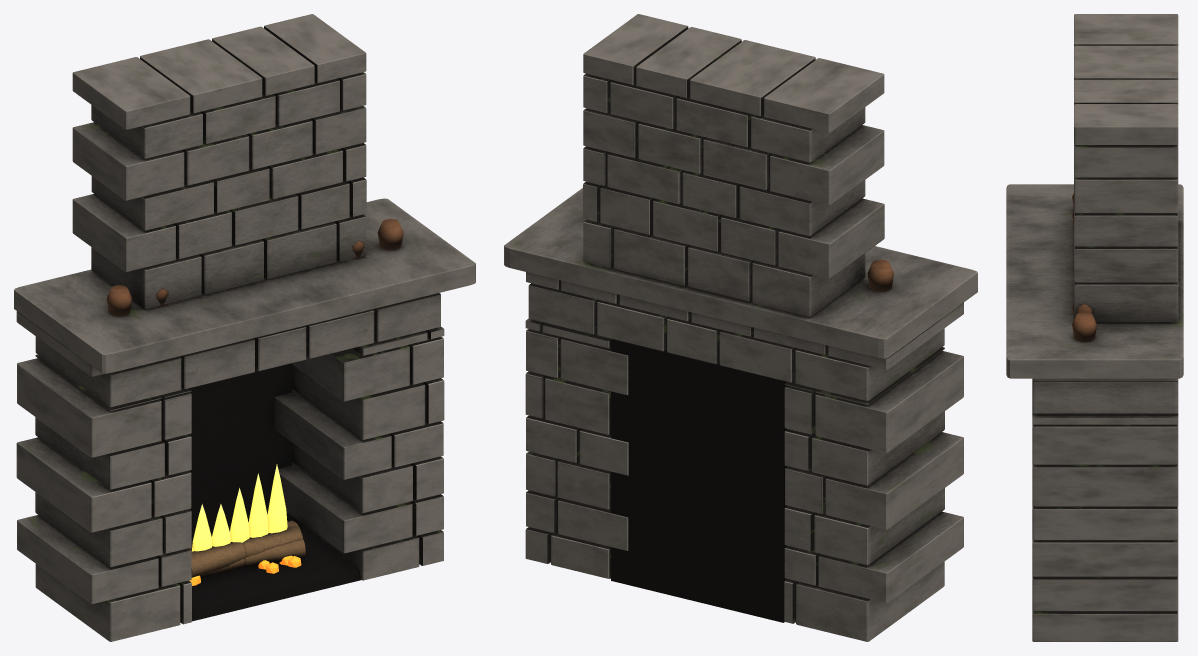
Rendered from movel_lareira.glb.
3 renders of one model, left to right at view 1: azimuth 30°, elevation 25°; view 2: azimuth 150°, elevation 25°; view 3: azimuth 270°, elevation 25°, orthographic. The views are drawn at different scales.
Parts seen in each view (by area): view 1: movel_lareira, chama4, chama3, chama2; view 2: movel_lareira; view 3: movel_lareira.
Boxes of the visible parts, x1,y1,x2,y2 form: movel_lareira: (14,14,475,641); chama4: (267,464,287,533); chama3: (248,473,268,537); chama2: (230,488,249,542); movel_lareira: (504,14,977,641); movel_lareira: (1006,14,1183,641).
Bounding box in the file's own units: 2 × 2.59 × 0.85.
16 materials, 1 textured.
